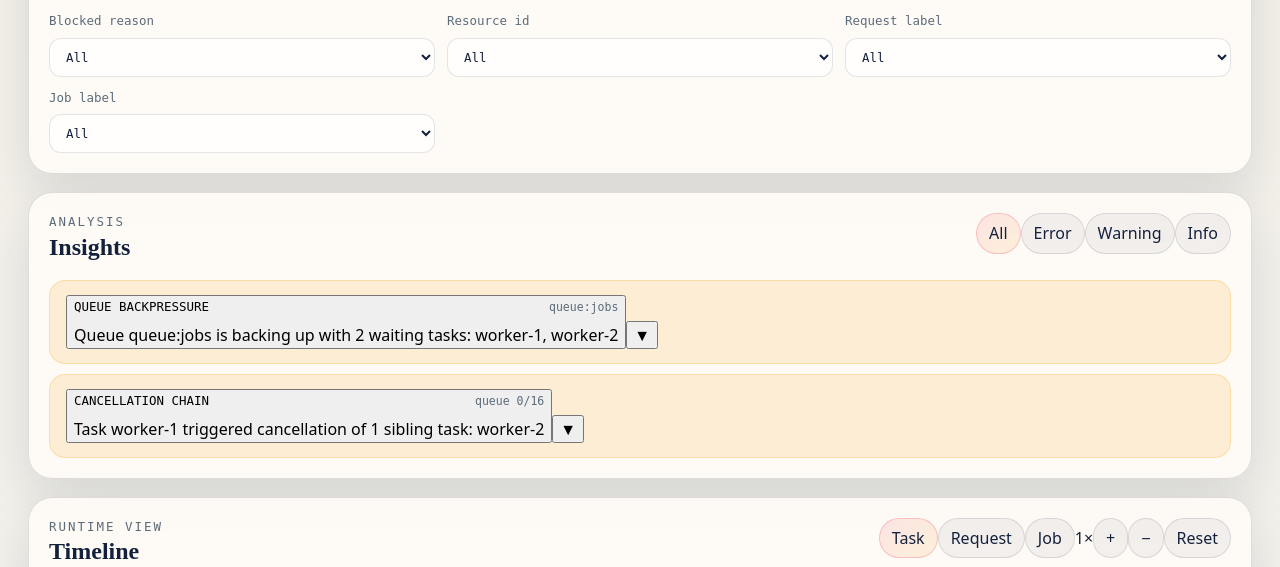
Scenario: App › insight cards collapse and expand on header click
This screenshot has width=1280, height=567.
(page scrolled)
Expected: the text "Queue queue:jobs is backing up with 2 waiting tasks: worker-1, worker-2" is shown, [74,324,618,346]
Note: Click the collapse toggle on the first insight card (there are 2 insights → 2 toggles)
What coordinates should you click on to do the following:
click the button named "collapse"
I would click on:
 (642, 335)
Its box is [626,321,658,349].
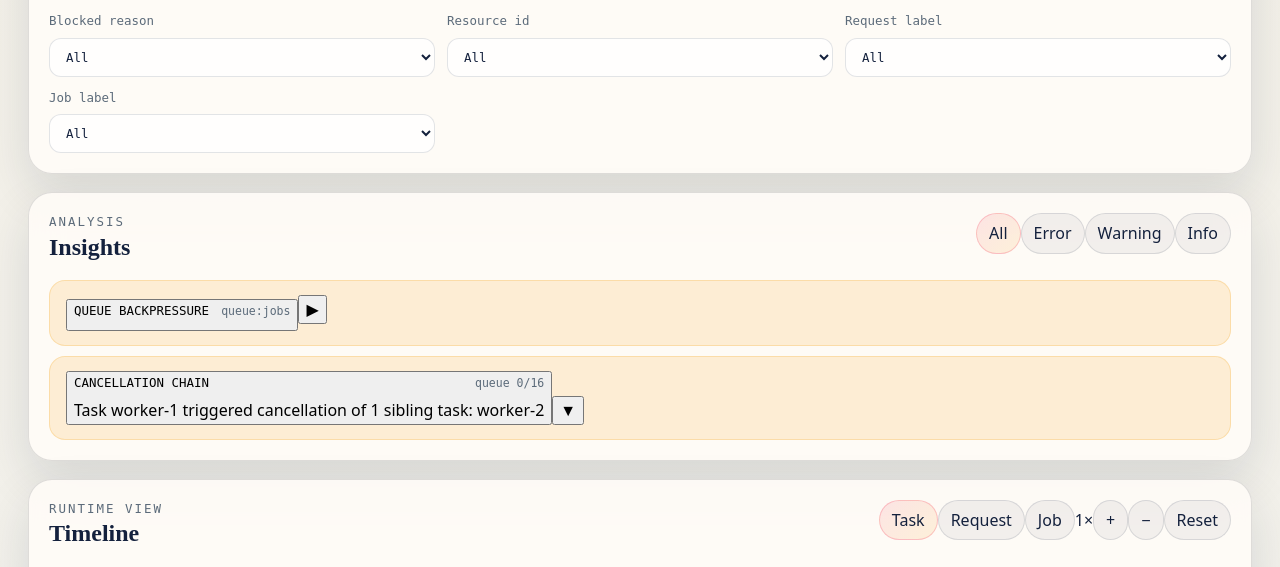
Expected: the text "Queue queue:jobs is backing up with 2 waiting tasks: worker-1, worker-2" is gone
Note: Click the expand toggle to restore
What coordinates should you click on to do the following:
click the button named "expand"
I would click on:
 (313, 310)
Its box is [298,296,327,324].
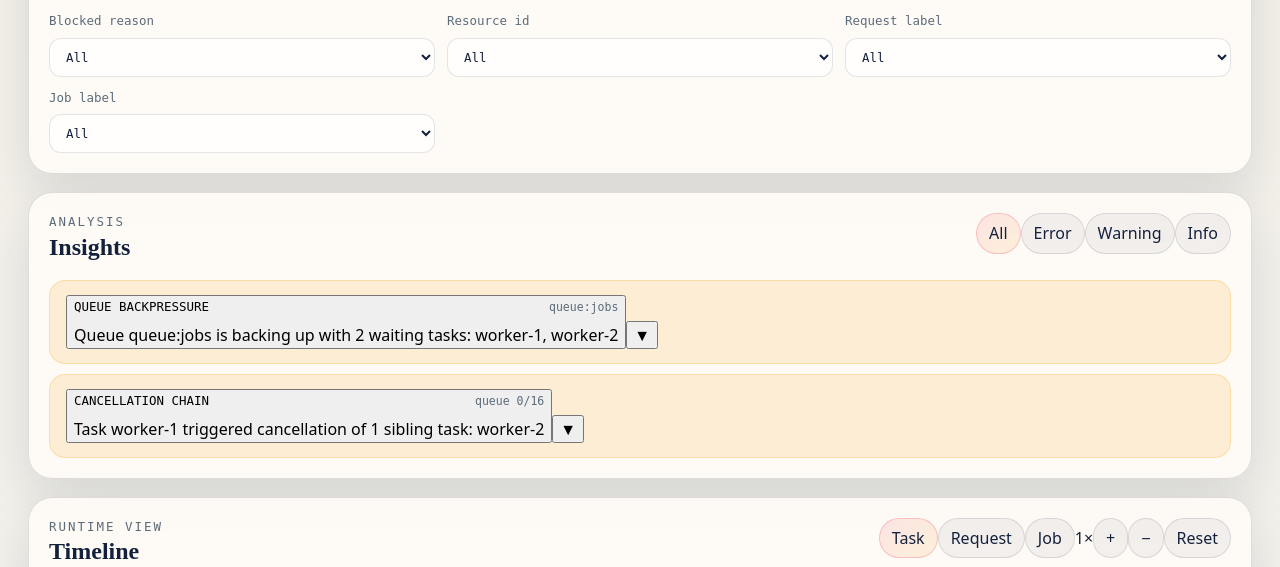
Expected: the text "Queue queue:jobs is backing up with 2 waiting tasks: worker-1, worker-2" is shown, [74,324,618,346]
